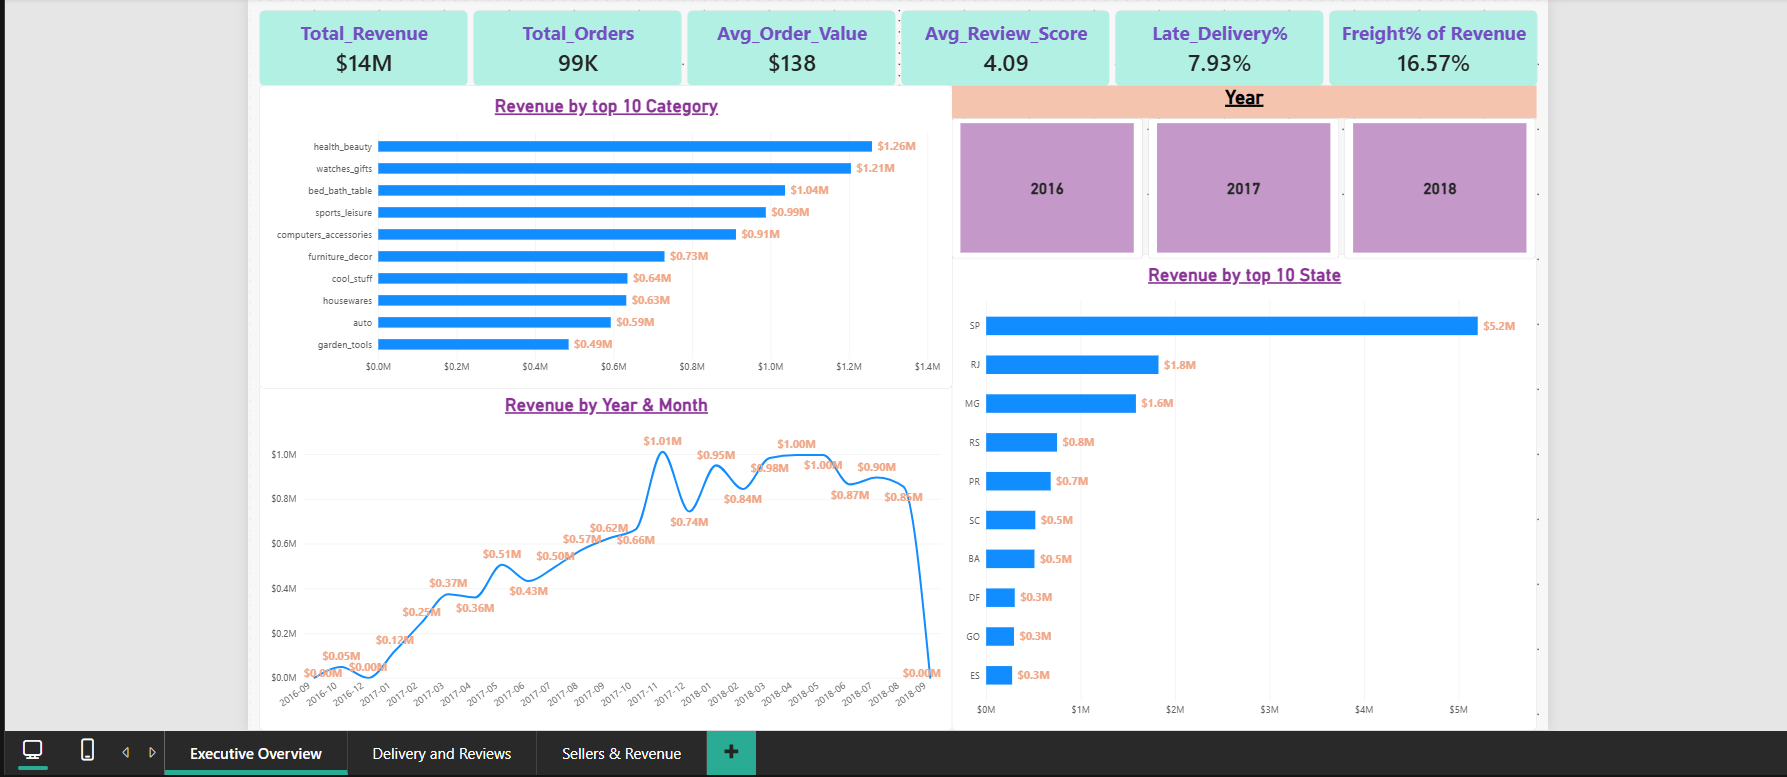

This screenshot's page, from the dashboard's own definition file:
{"tool":"powerbi","page":{"name":"Executive Overview","canvas":[1920,1080],"ordinal":0},"visuals":[{"type":"cardVisual","fields":{"Data":["Measures (2).Total_Revenue","Measures (2).Total_Orders","Measures (2).Avg_Order_Value","Measures (2).Avg_Review_Score","Measures (2).Late_Delivery%","Measures (2).Freight%"]},"box":[16,16,1888,112],"z":0},{"type":"lineChart","title":"Revenue by Year & Month","fields":{"Category":["gold dim_DateTable.YearMonth"],"Y":["Measures (2).Total_Revenue"]},"box":[16,568,1024,512],"z":1},{"type":"barChart","title":"Revenue by top 10 State","fields":{"Category":["gold dim_Customers.State"],"Y":["Measures (2).Total_Revenue"]},"box":[1040,376,864,704],"z":2},{"type":"barChart","title":"Revenue by top 10 Category","fields":{"Category":["gold dim_Products.CategoryName_eng"],"Y":["Measures (2).Total_Revenue"]},"box":[16,128,1024,448],"z":3},{"type":"advancedSlicerVisual","fields":{"Values":["gold dim_DateTable.Year"]},"box":[1040,128,864,256],"z":4}]}

Visuals, with their boxes on the page's 1920x1080 design canvas (x1, y1, x2, y2). These are canvas units, not pixel positions in the 1787x777 screenshot, which may show the page scaled, cropped or inside an application window:
cardVisual - Measures (2).Total_Revenue x Measures (2).Total_Orders: {"x1": 16, "y1": 16, "x2": 1904, "y2": 128}
"Revenue by Year & Month" lineChart: {"x1": 16, "y1": 568, "x2": 1040, "y2": 1080}
"Revenue by top 10 State" barChart: {"x1": 1040, "y1": 376, "x2": 1904, "y2": 1080}
"Revenue by top 10 Category" barChart: {"x1": 16, "y1": 128, "x2": 1040, "y2": 576}
advancedSlicerVisual - gold dim_DateTable.Year: {"x1": 1040, "y1": 128, "x2": 1904, "y2": 384}
